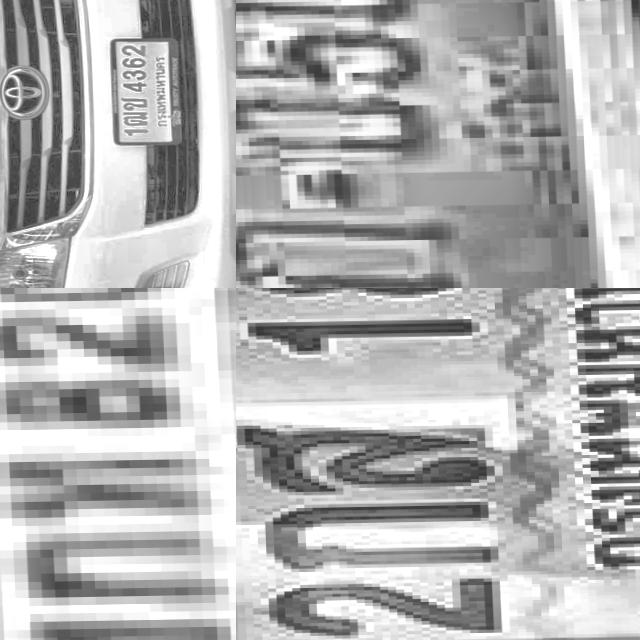license-plate: (236, 288, 640, 640), (236, 0, 640, 288), (0, 288, 236, 640), (100, 35, 181, 148)
